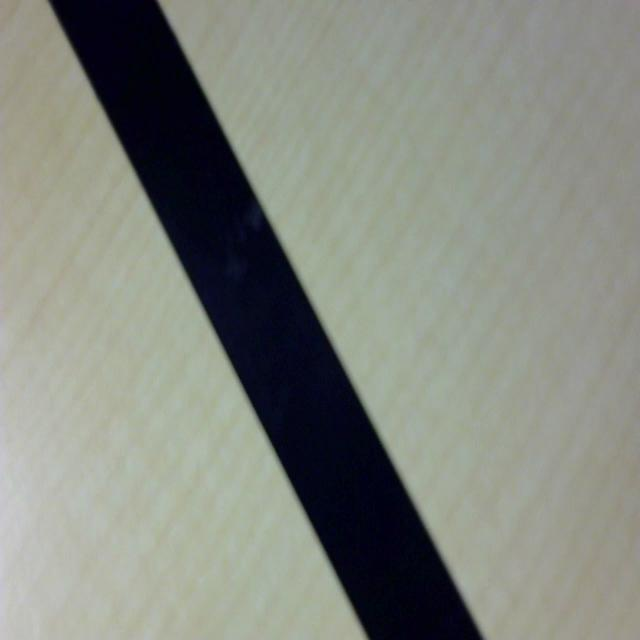tape: (16, 0, 506, 640)
